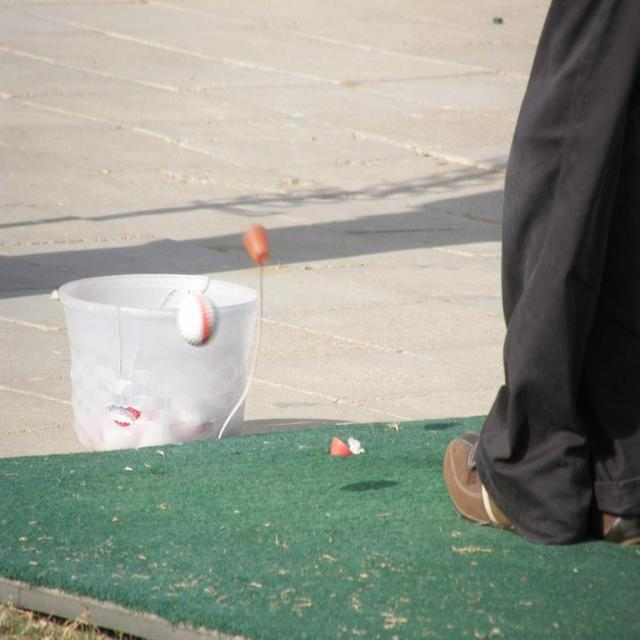GolfBall: (168, 287, 226, 345)
